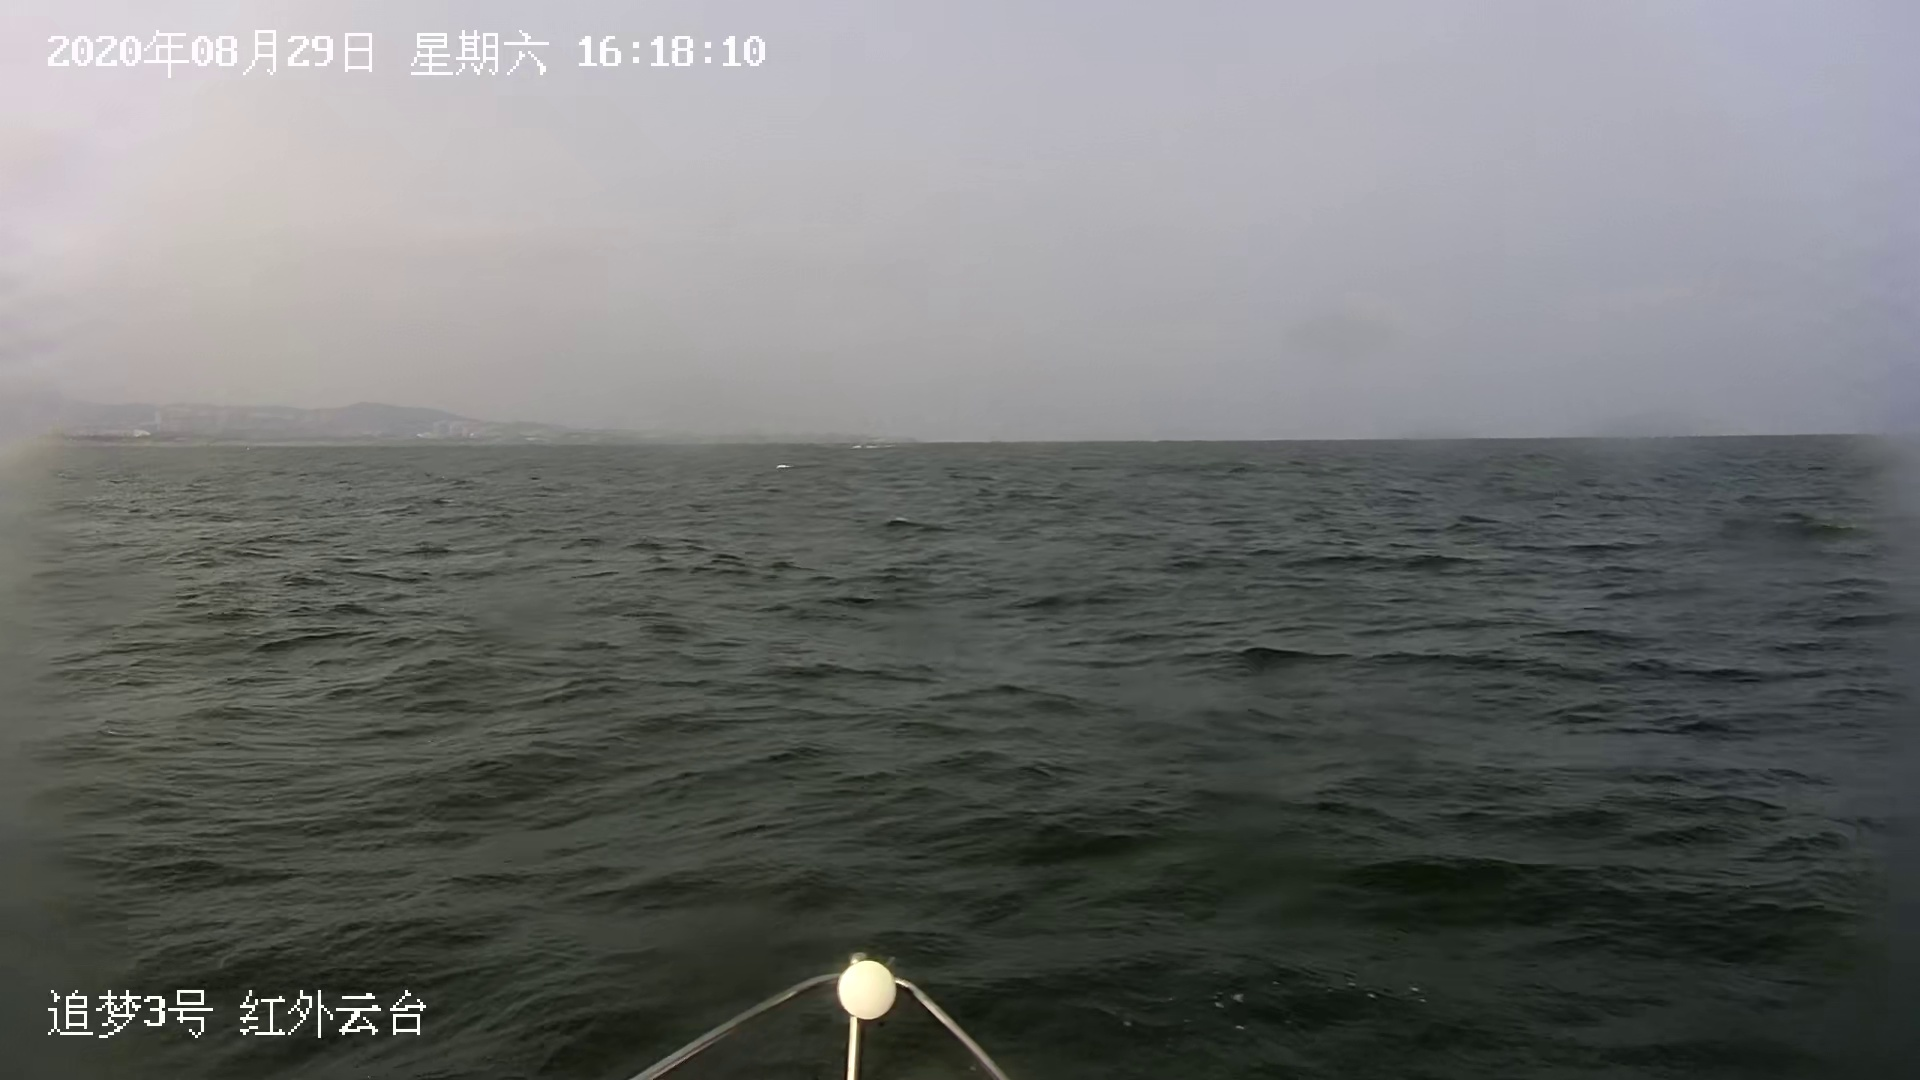coast: (15, 398, 774, 444)
